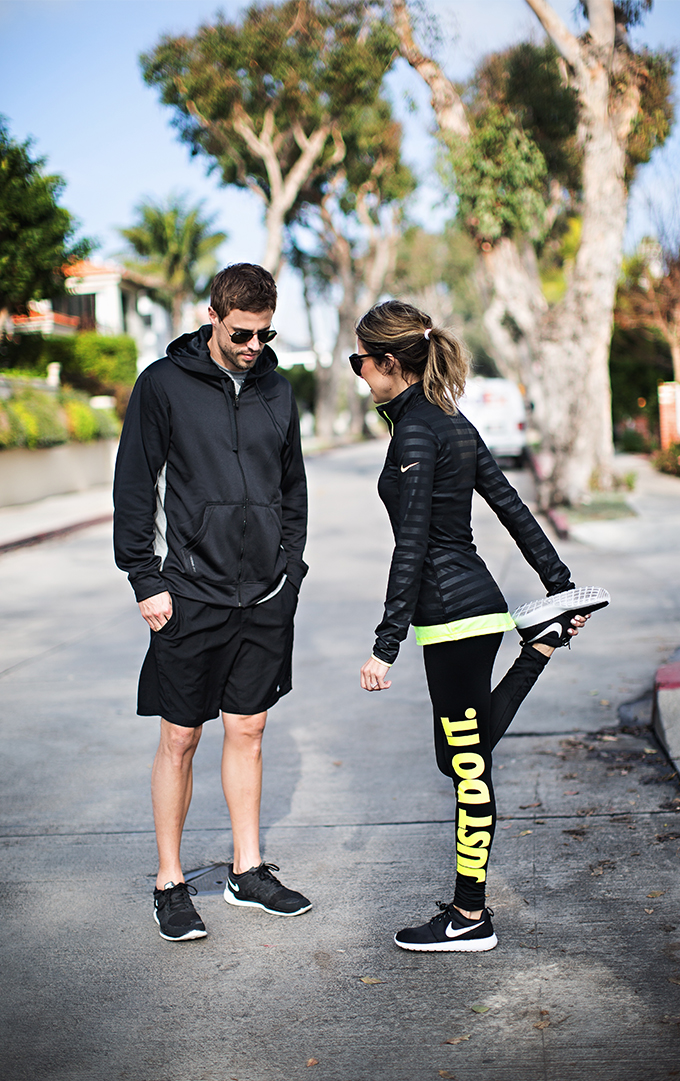Person: (349, 298, 609, 953), (113, 261, 316, 942)
